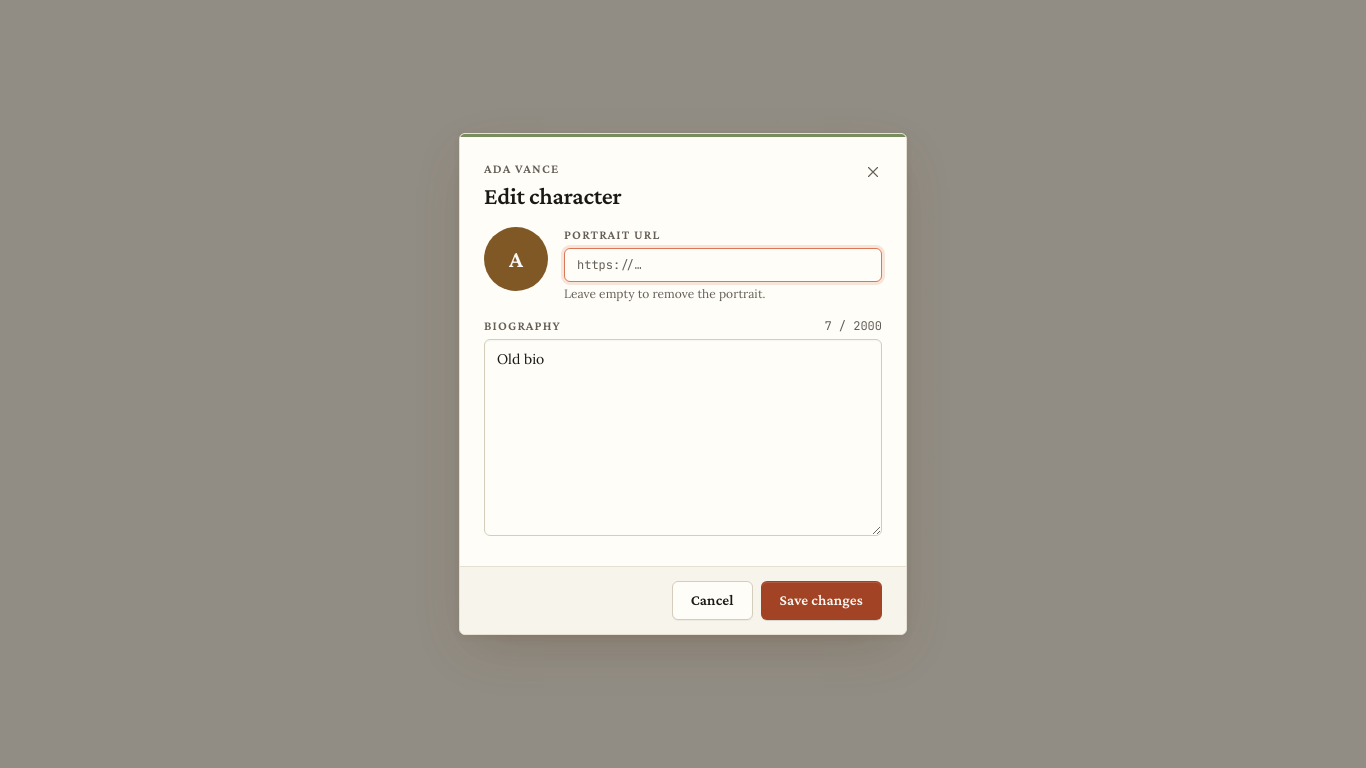
EditCharacterModal › rejects a newly entered http portrait
Type "http://img.example/b.png" into the field with placeholder "https://…". click: x=723, y=265
box: [564,248,882,282]
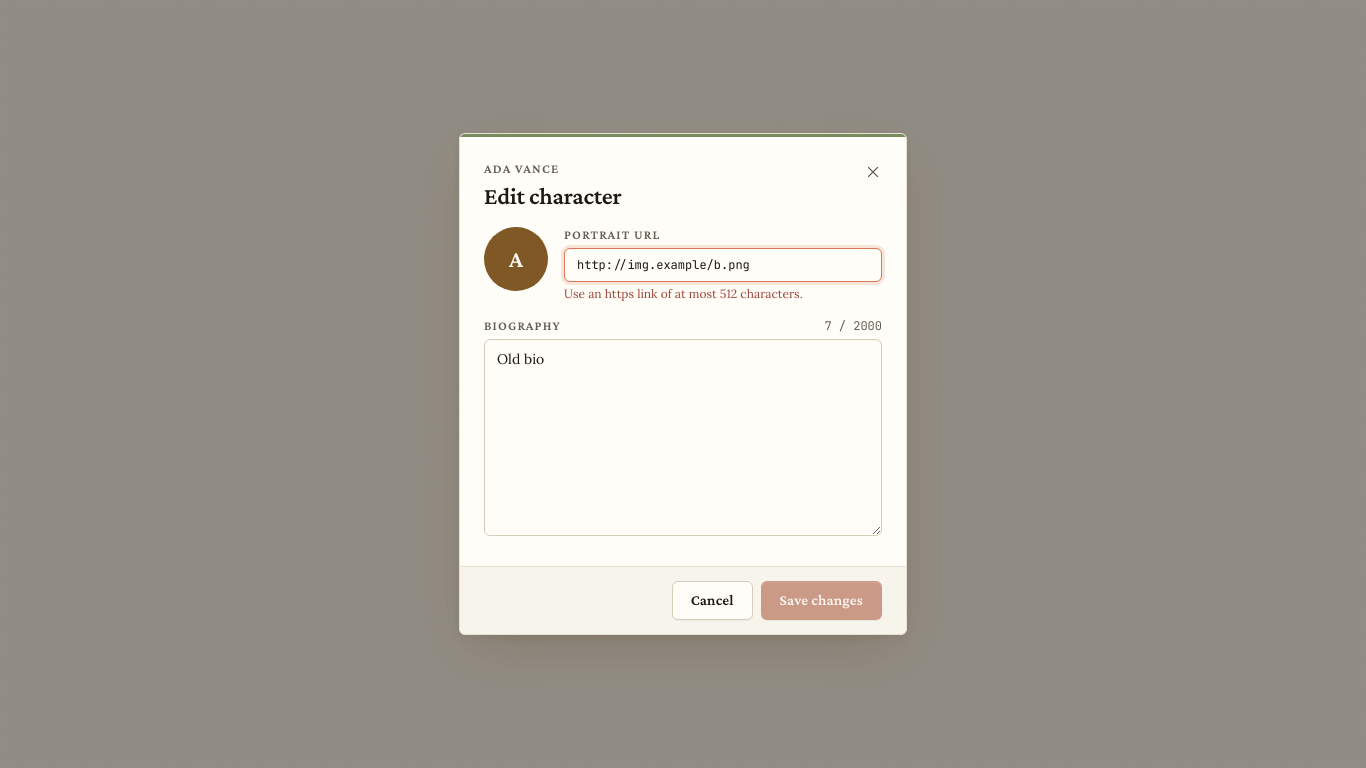
Result: the text "Use an https link of at most 512 characters." is shown at [564,286,803,301]
Result: the button "Save changes" is disabled at [761,581,882,620]
